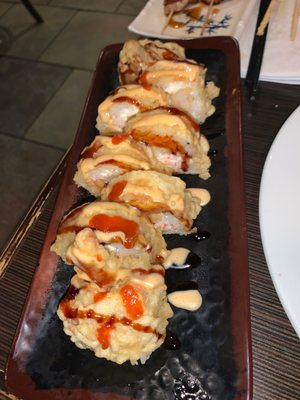curry: (0, 1, 299, 397)
sandwich: (52, 200, 181, 366)
